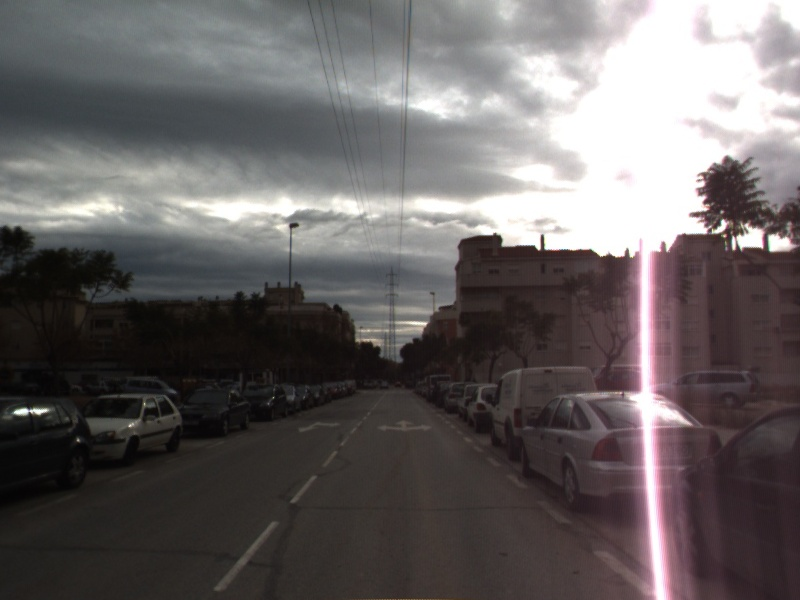STRAIGHT_LEFT_RIGHT: (375, 418, 435, 433)
